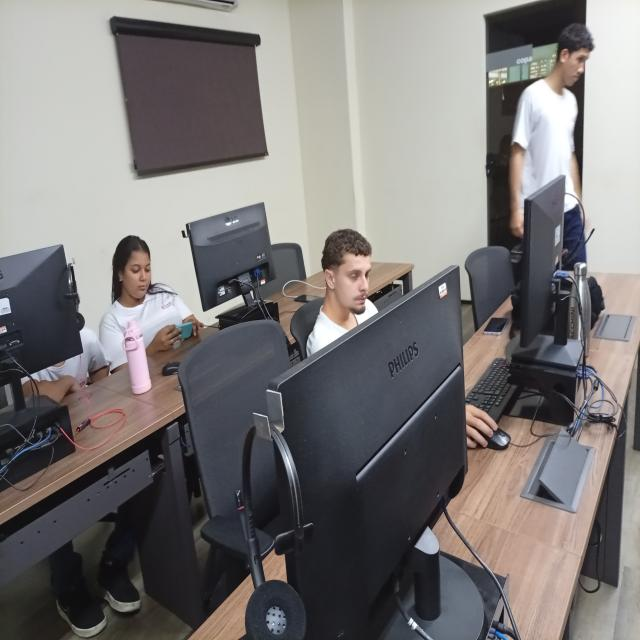sem_oculos: (340, 264, 374, 286), (124, 255, 155, 272), (571, 45, 589, 70)
